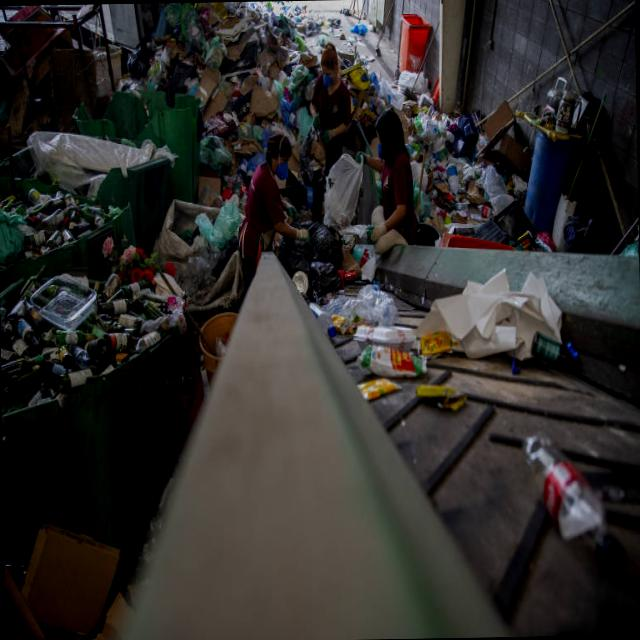garbage: (0, 0, 608, 427)
